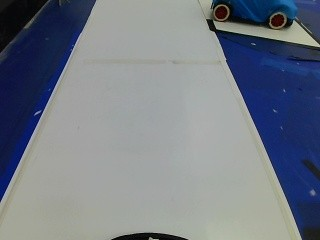car: (207, 0, 298, 32)
